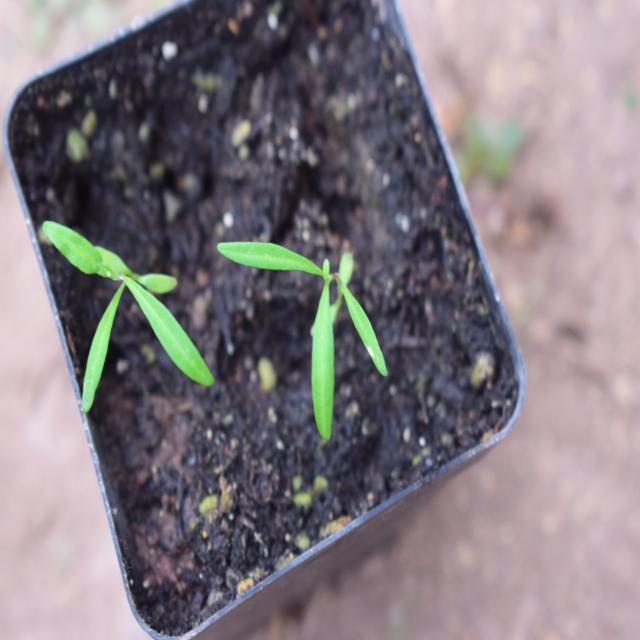white_smart_weed: (229, 210, 422, 450), (36, 200, 220, 425)
